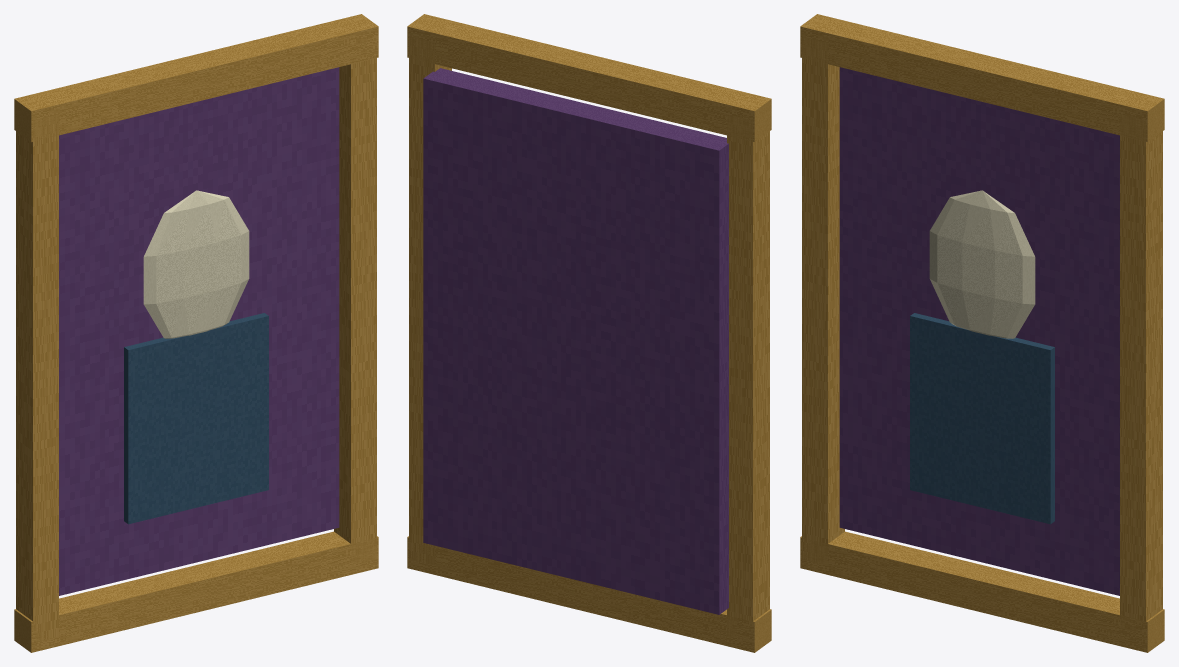
File: portrait_frame.glb
3 renders of one model, left to right at view 1: azimuth 30°, elevation 25°; view 2: azimuth 150°, elevation 25°; view 3: azimuth 330°, elevation 25°, orthographic.
Visible parts, largest first — view 1: portrait_board, gold_side (×2), gold_rail (×2), painted_robe, painted_silhouette; view 2: portrait_board, gold_side (×2), gold_rail (×2); view 3: portrait_board, gold_side (×2), gold_rail (×2), painted_robe, painted_silhouette.
Part boxes in pixels (bbox=[...]): portrait_board: bbox=[59, 67, 339, 595]; gold_side (×2): bbox=[16, 55, 376, 640]; gold_rail (×2): bbox=[14, 14, 378, 652]; painted_robe: bbox=[124, 313, 268, 524]; painted_silhouette: bbox=[143, 190, 249, 338]; portrait_board: bbox=[423, 68, 728, 614]; gold_side (×2): bbox=[409, 36, 769, 637]; gold_rail (×2): bbox=[407, 14, 771, 652]; portrait_board: bbox=[839, 67, 1119, 595]; gold_side (×2): bbox=[802, 36, 1162, 636]; gold_rail (×2): bbox=[800, 14, 1164, 652]; painted_robe: bbox=[910, 313, 1054, 524]; painted_silhouette: bbox=[929, 190, 1035, 338].
Size of the model in its own units: 0.94 by 1.4 by 0.125.
1 material, 1 textured.
